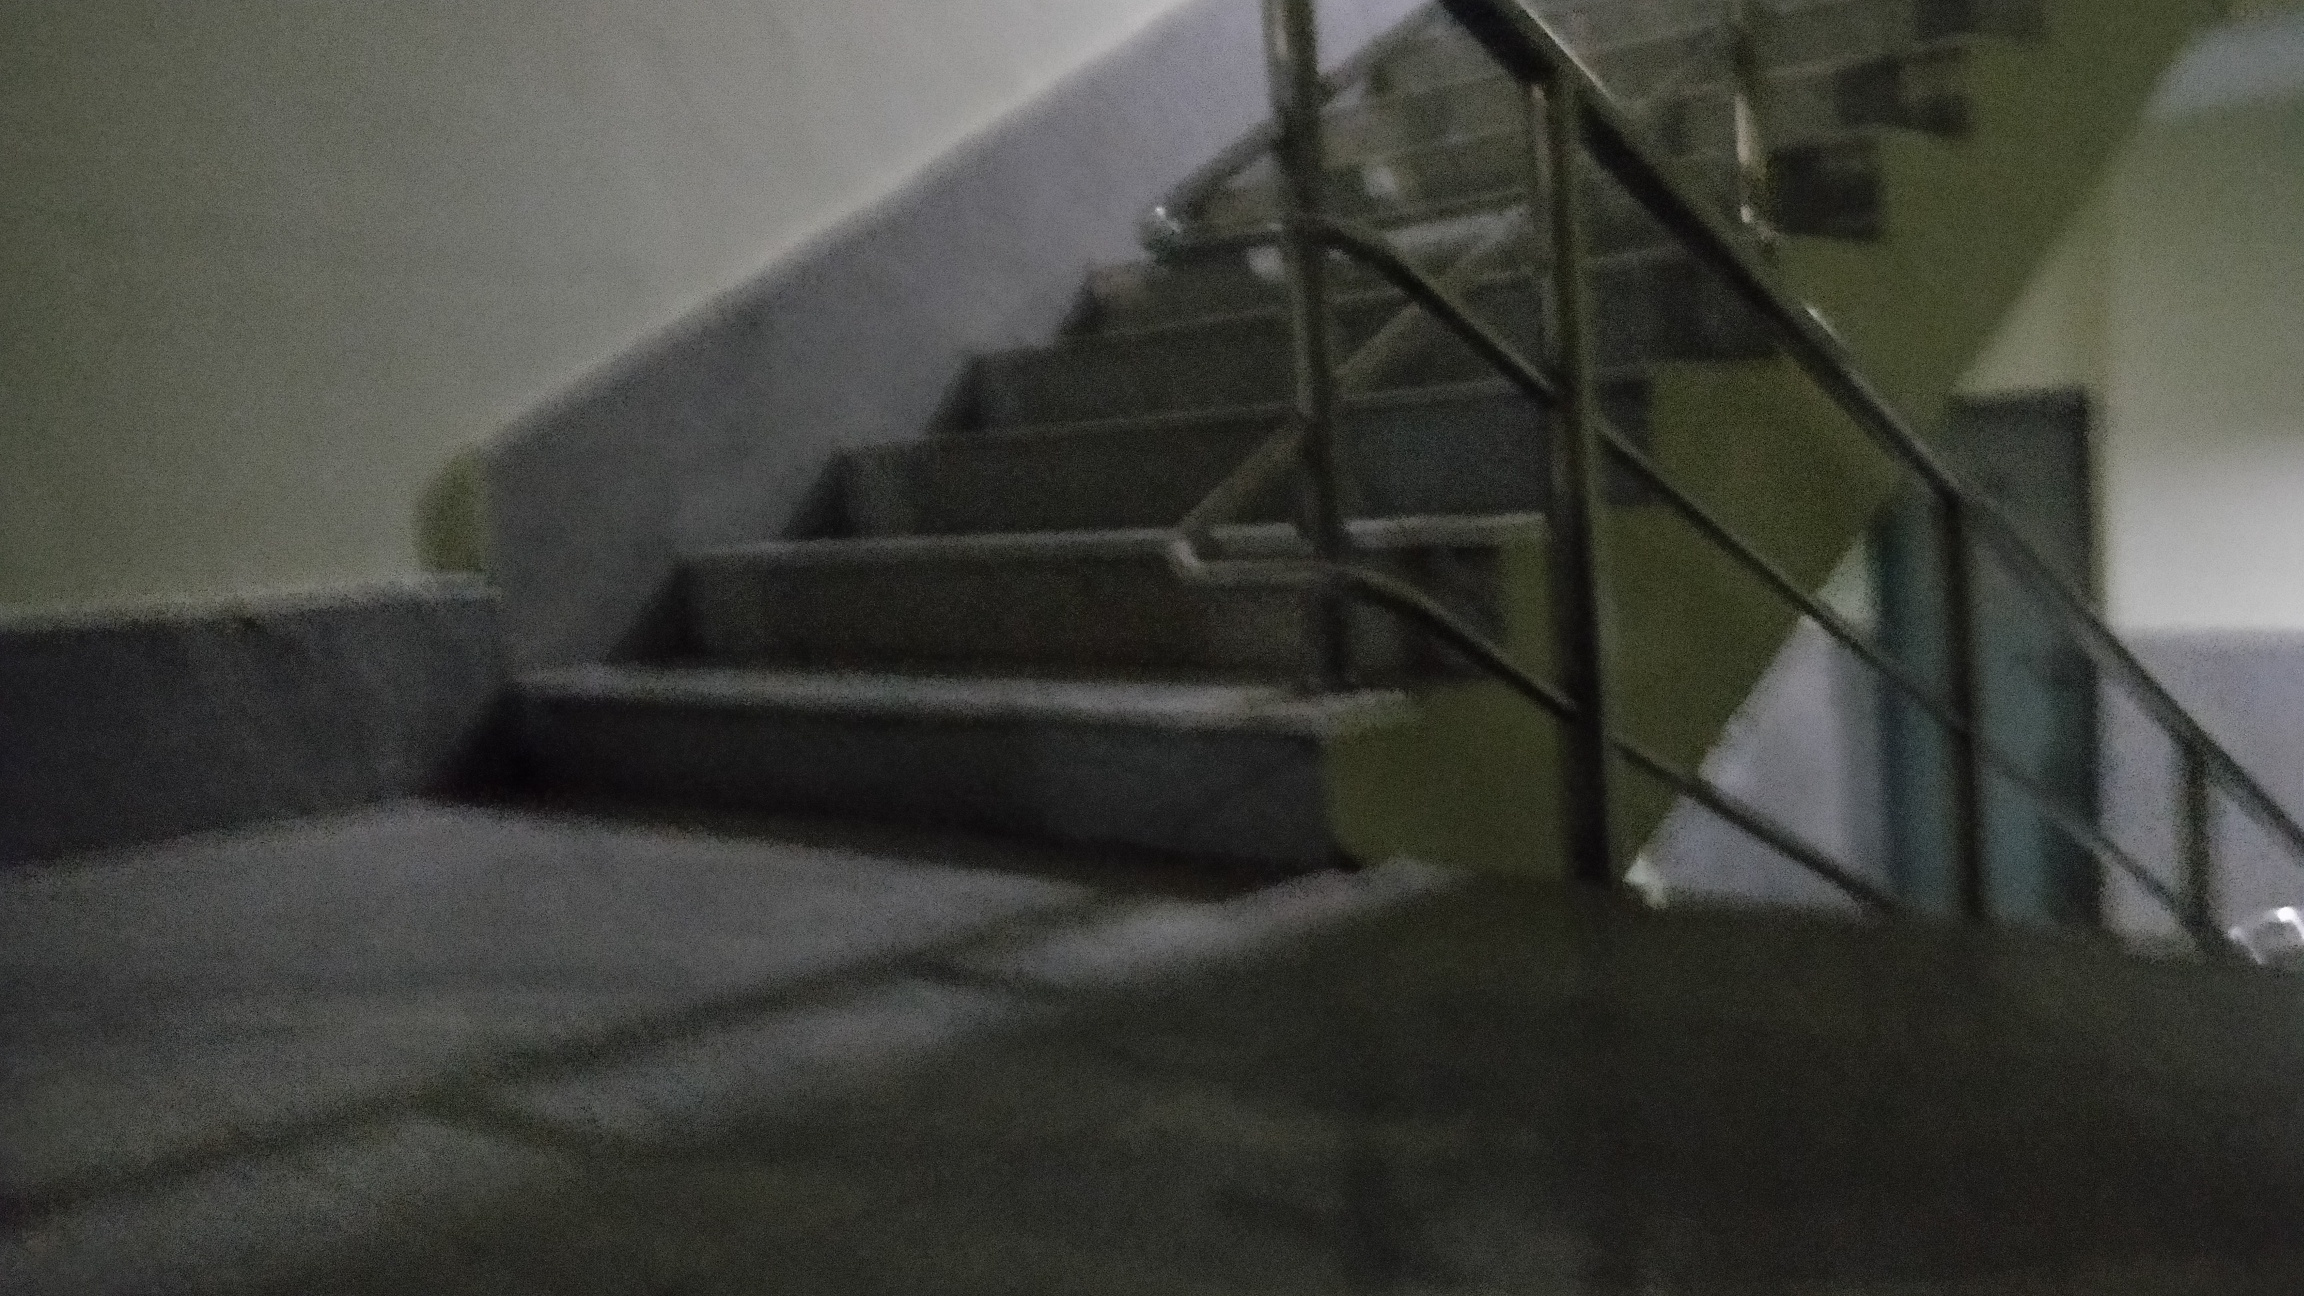stairs_up: (495, 9, 1791, 891)
